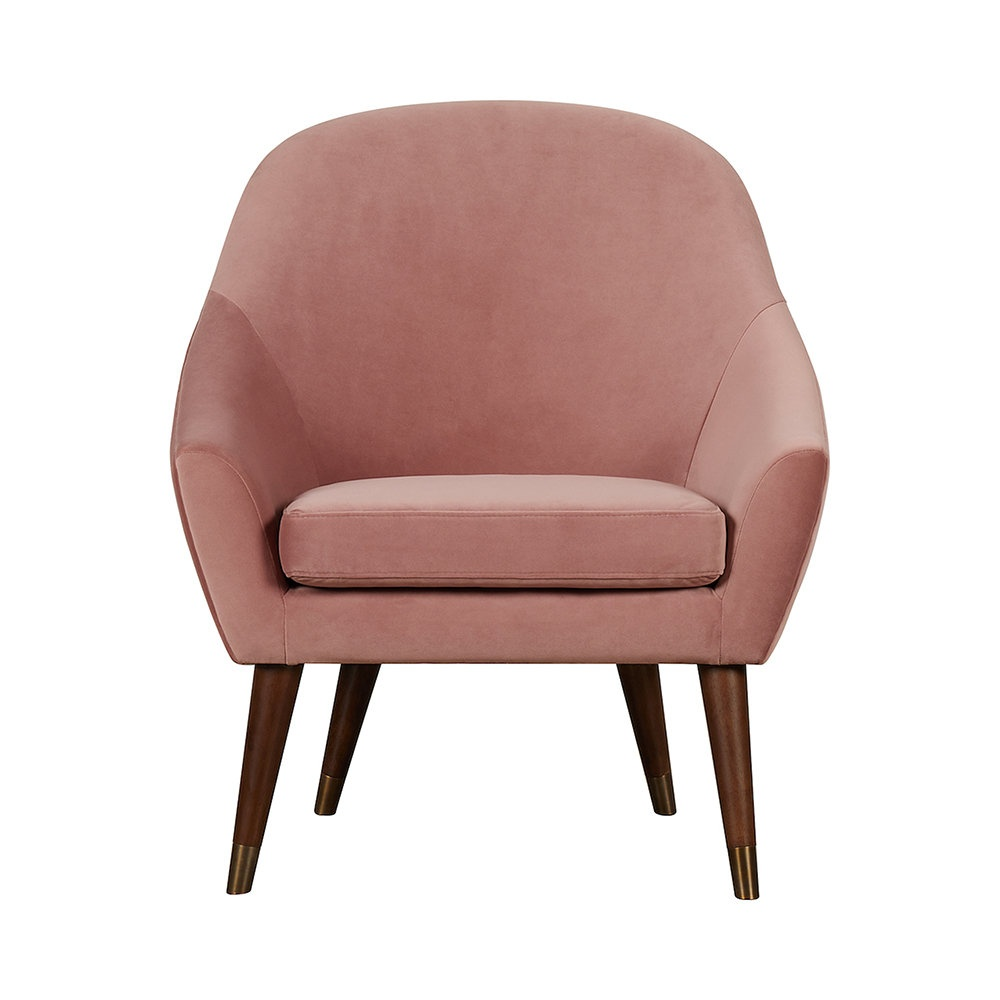obstacle: (172, 102, 827, 898)
